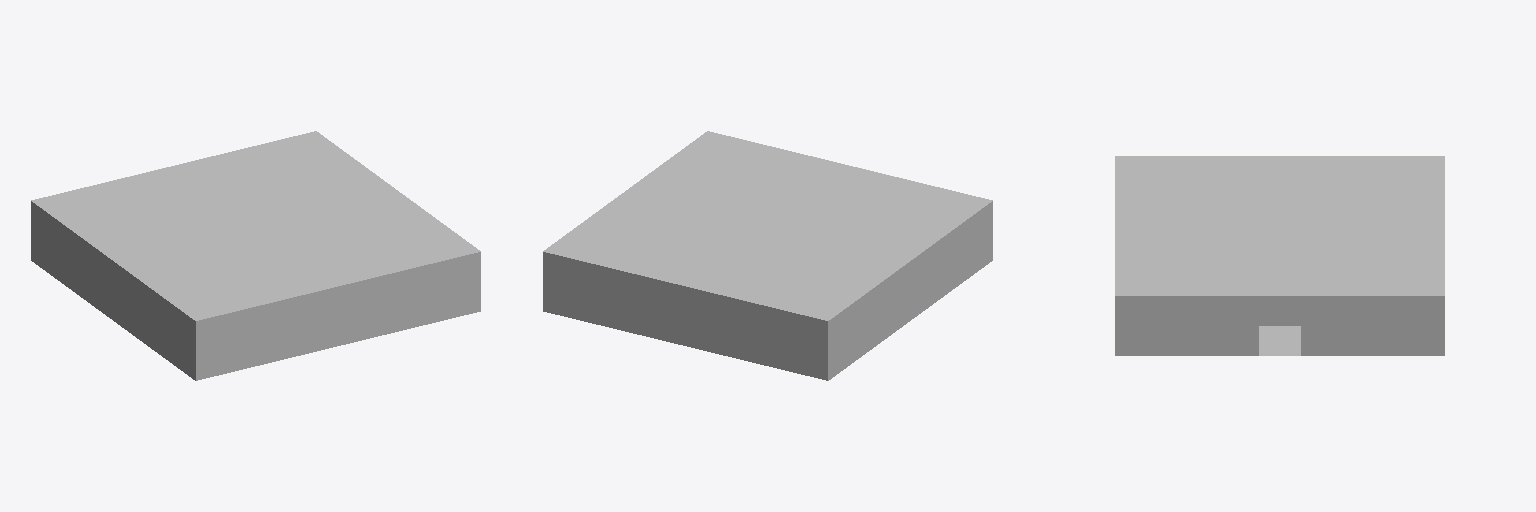
File: room.obj
3 renders of one model, left to right at view 1: azimuth 30°, elevation 25°; view 2: azimuth 150°, elevation 25°; view 3: azimuth 270°, elevation 25°, orthographic.
Parts seen in each view (by area): view 1: Room; view 2: Room; view 3: Room.
Part boxes in pixels (left/top/right/bottom): Room: left=31, top=131, right=480, bottom=380; Room: left=543, top=131, right=992, bottom=380; Room: left=1115, top=156, right=1444, bottom=355.
Size of the model in its own units: 19.93 by 3.99 by 19.93.